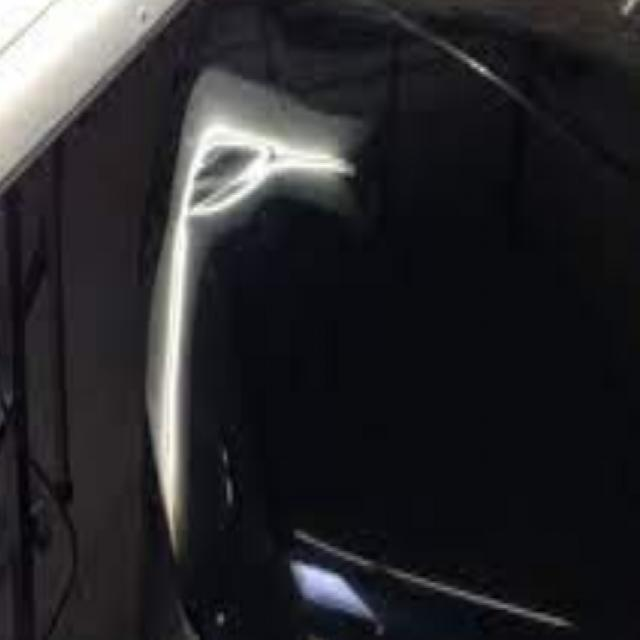dents: (184, 126, 292, 228)
